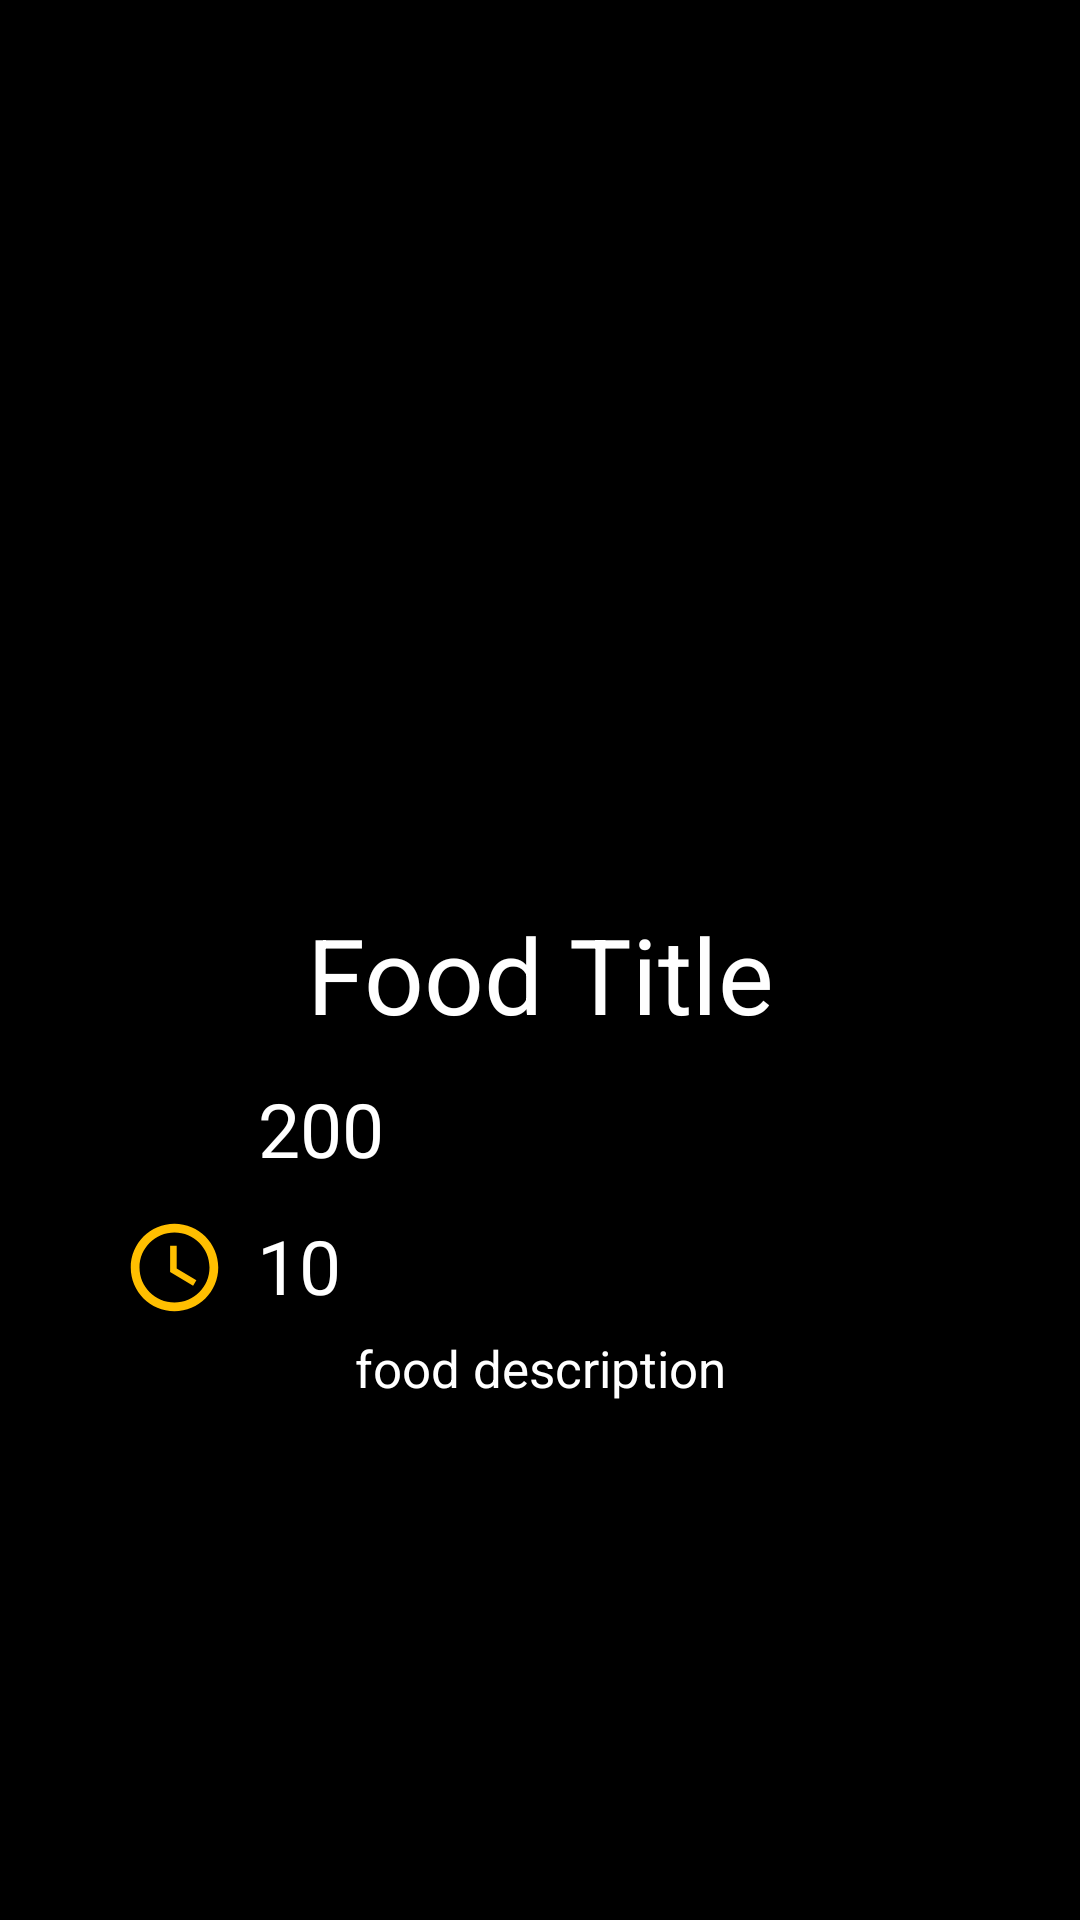

Icons on this 1080px×1920px Android screen, each with the point to tap as (x,y):
time: (174,1267)
